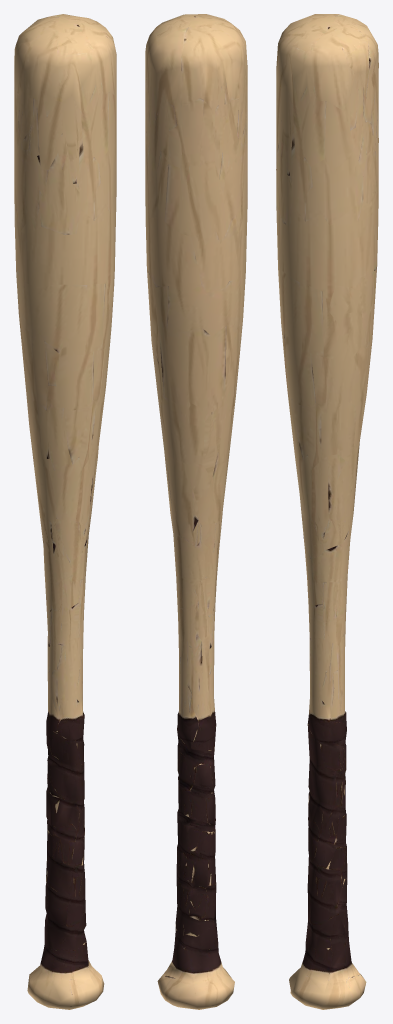
The model's file is bat.glb.
3 renders of one model, left to right at view 1: azimuth 30°, elevation 25°; view 2: azimuth 150°, elevation 25°; view 3: azimuth 330°, elevation 25°, orthographic.
Bounding box in the file's own units: 0.1803 × 1.9 × 0.1798.
1 material, 1 textured.
